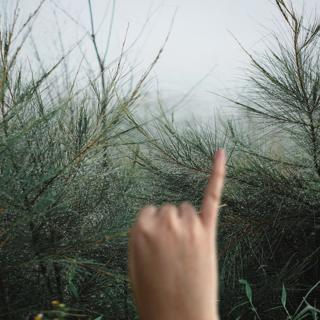Fine: (115, 138, 234, 311)
